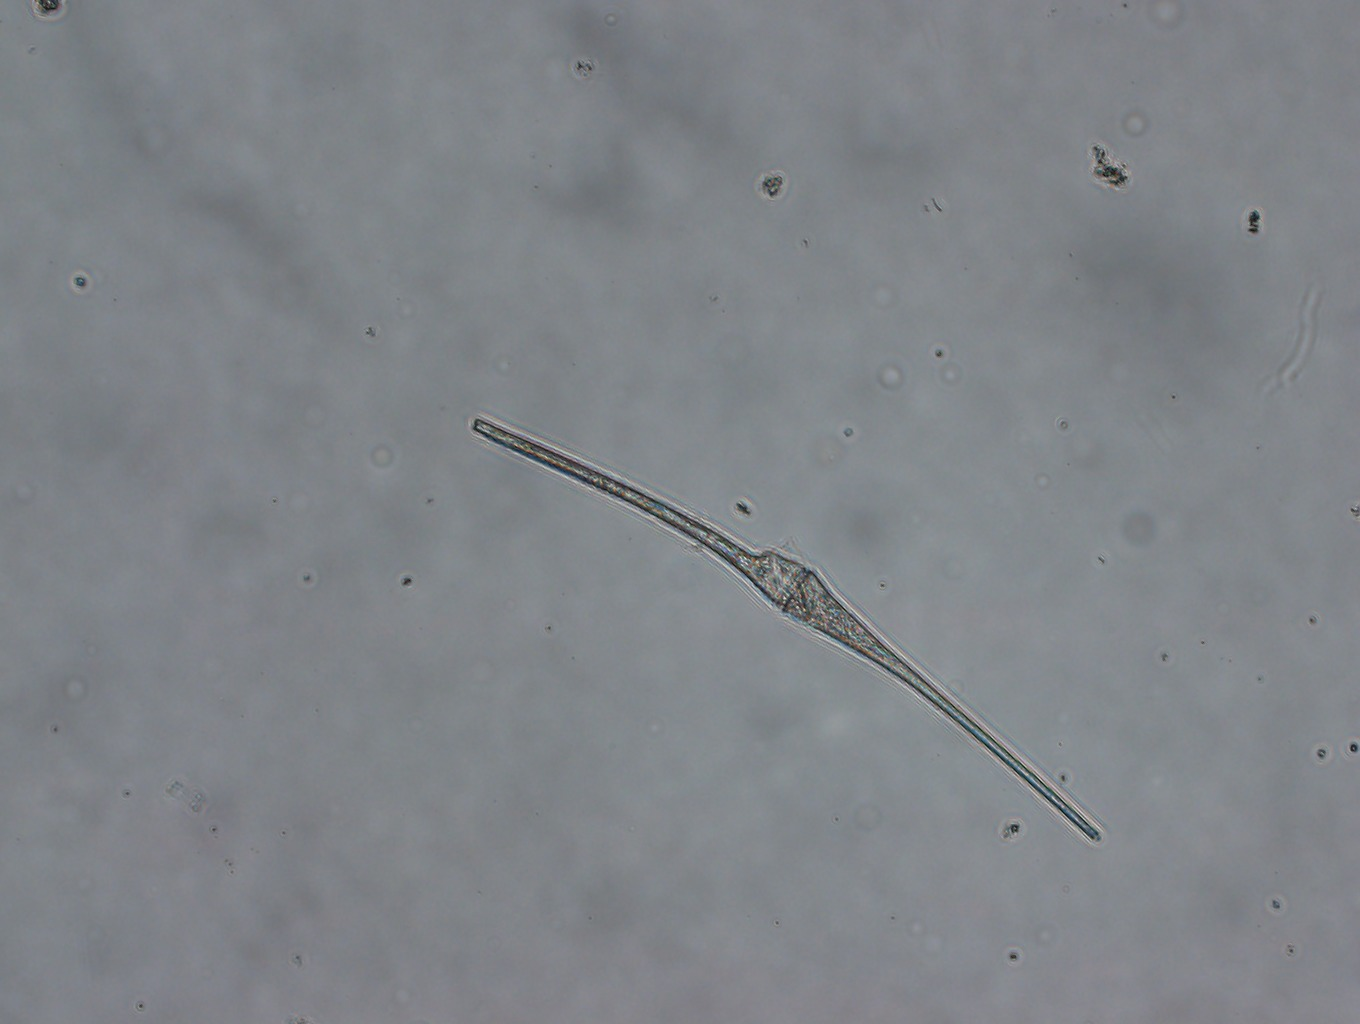ceratium fusus: (466, 413, 1103, 845)
